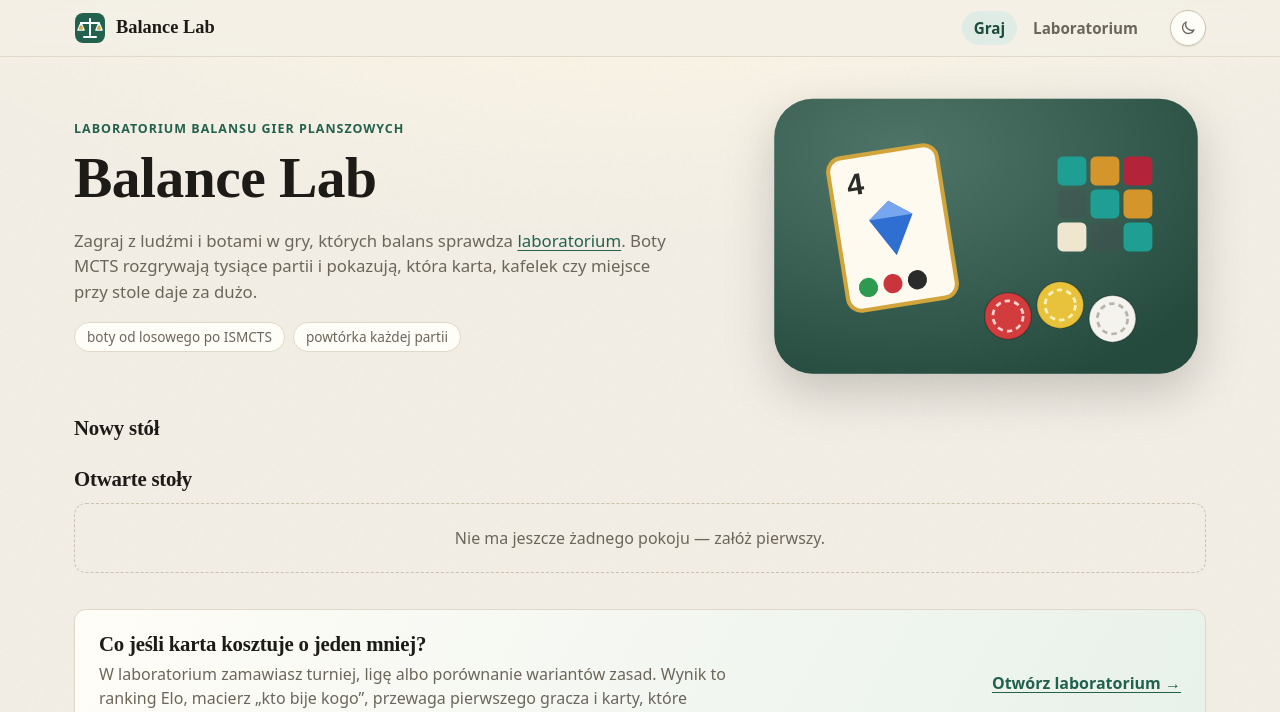
Test case: App › goes from the lobby to the lab and back
Click the link "laboratorium": [569, 241] box [517,229,621,252]
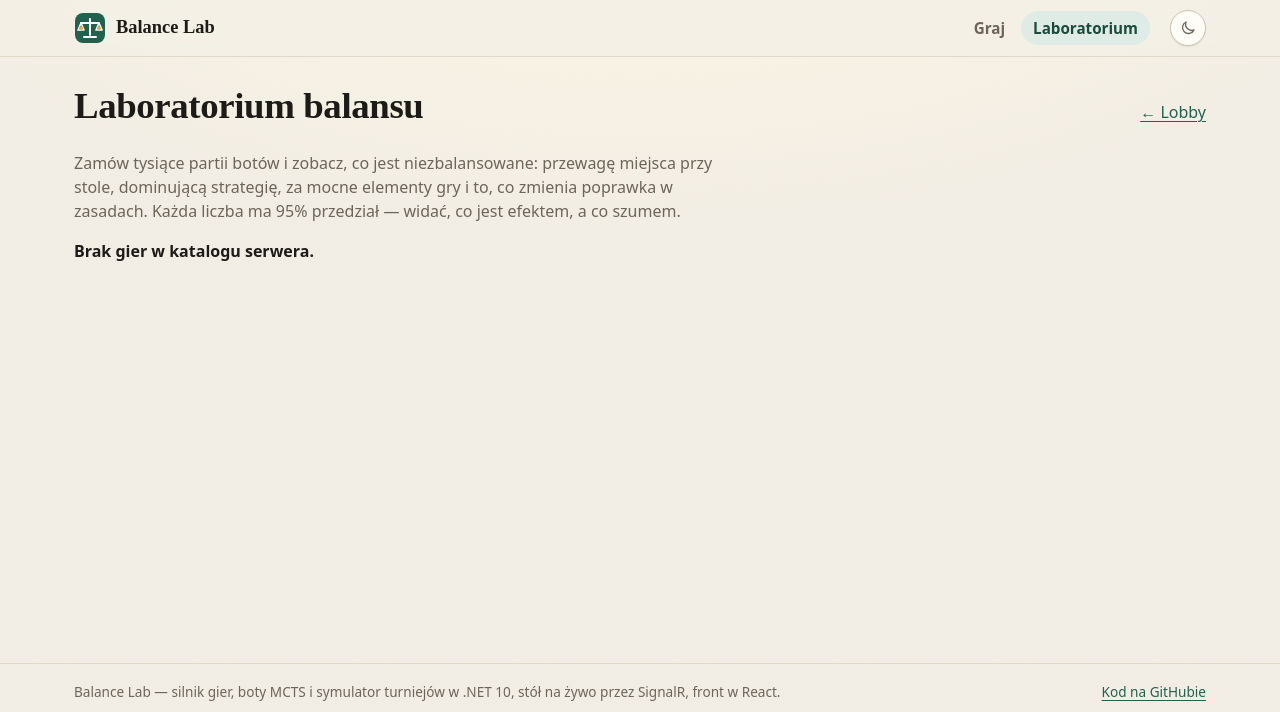
Result: the heading "Laboratorium balansu" is shown at [74,85,423,127]
